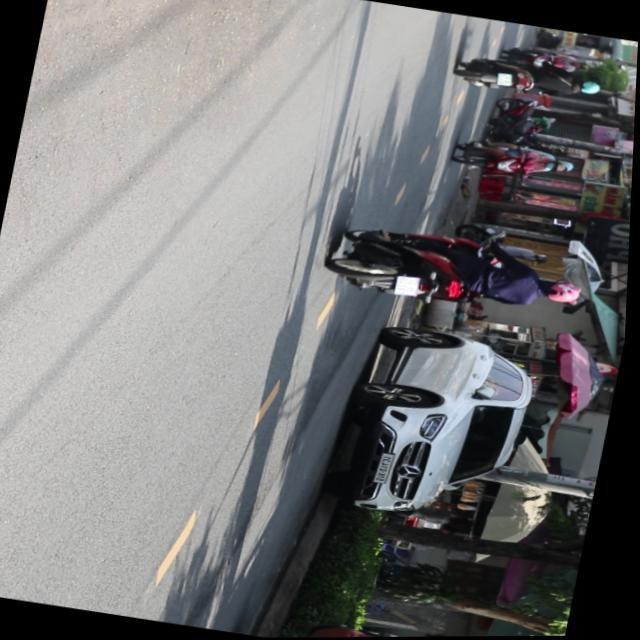helmet: (539, 280, 585, 308)
licenseplate: (324, 218, 592, 329)
nohelmet: (395, 276, 422, 299)
